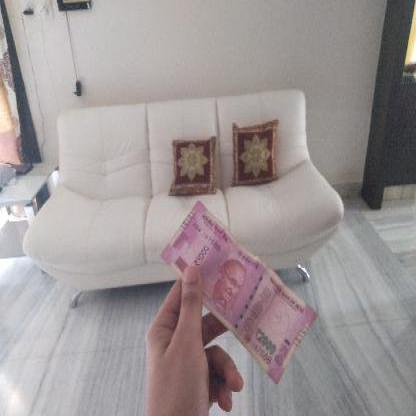New2000Front: (163, 199, 317, 385)
